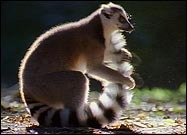cat: (19, 1, 137, 131)
